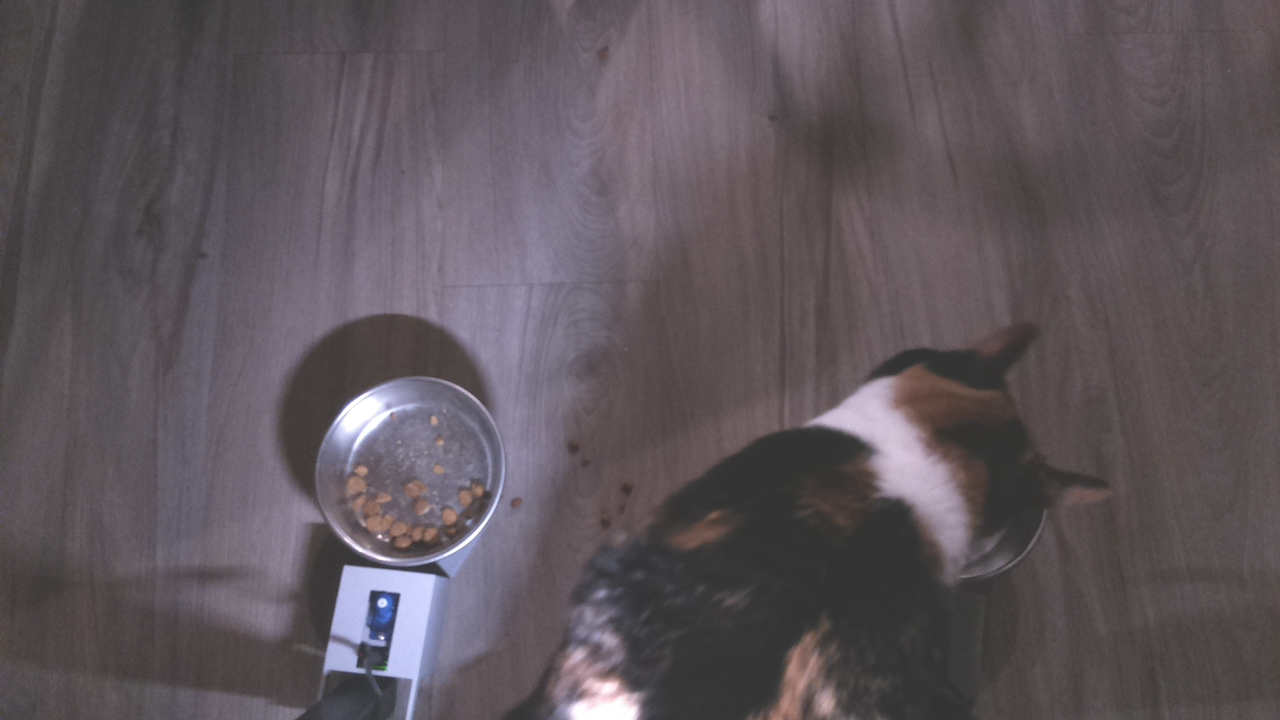bella_eating: (814, 308, 1129, 593)
open_bowl: (308, 373, 507, 566)
